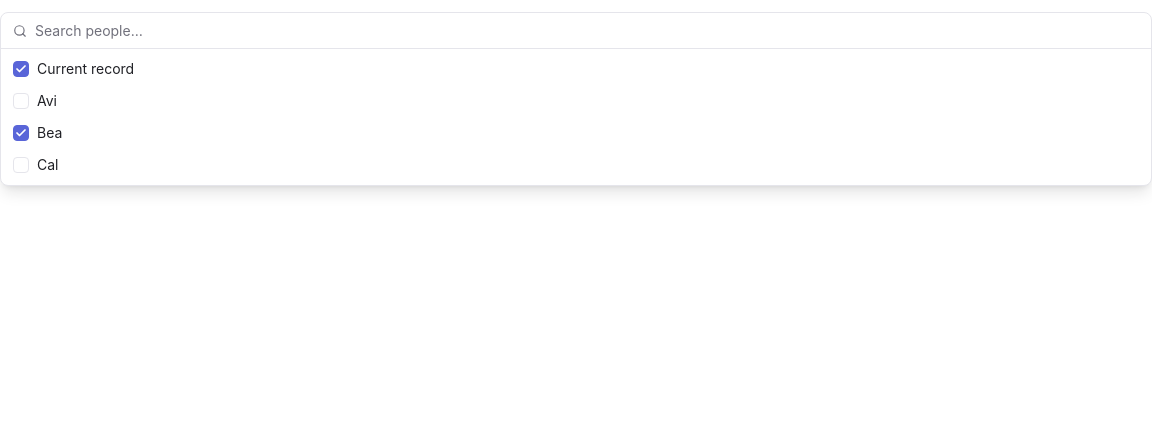
Test: InlineEditor on a many-to-many set › keeps the draft beside a retry when the record changed meanwhile
Click the option "Avi".
click(35, 100)  # box [13,92,57,109]
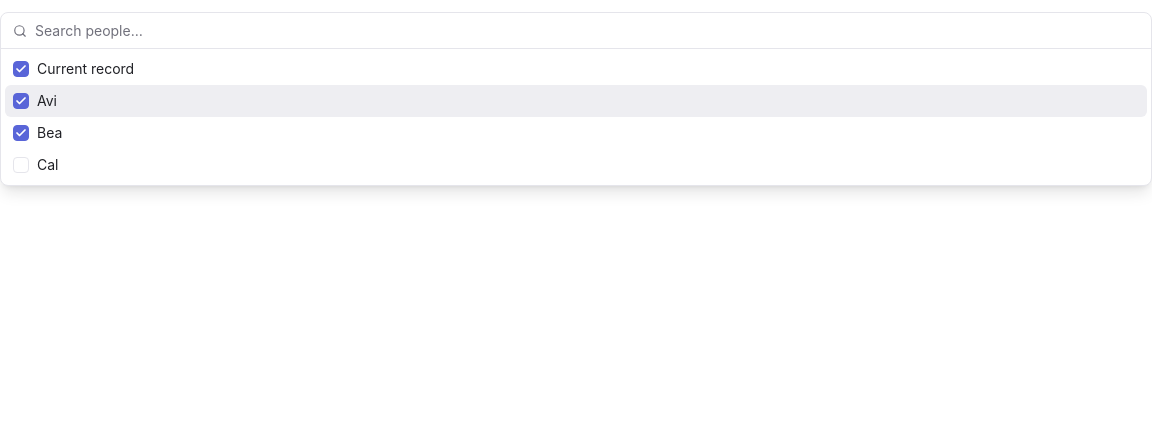
Type keys "{Control>}{Enter}{/Control}"
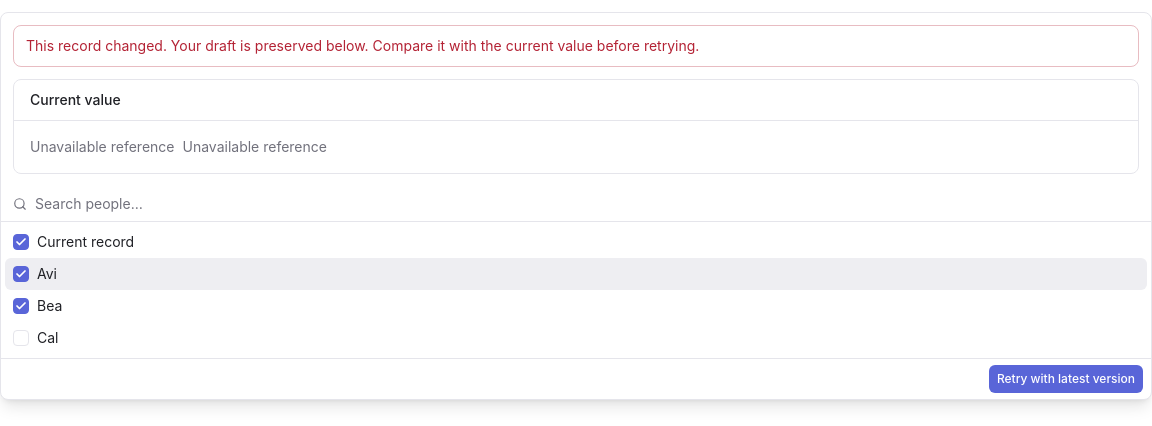
Expected: the button "Retry with latest version" is shown, [989,365,1143,393]
